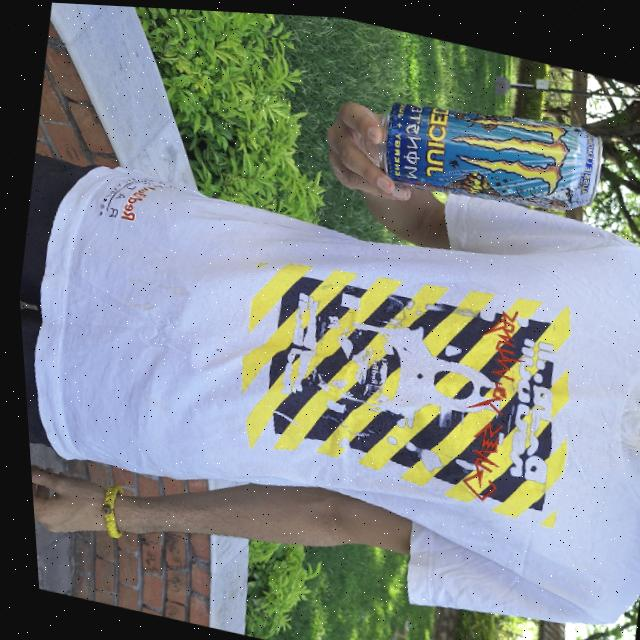Monster Aussie Lemonade: (369, 76, 610, 222)
